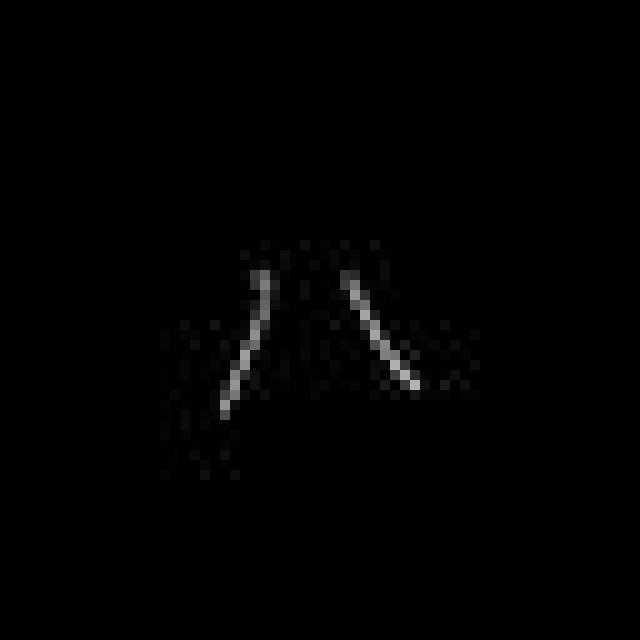8 -eight-: (198, 255, 433, 425)
